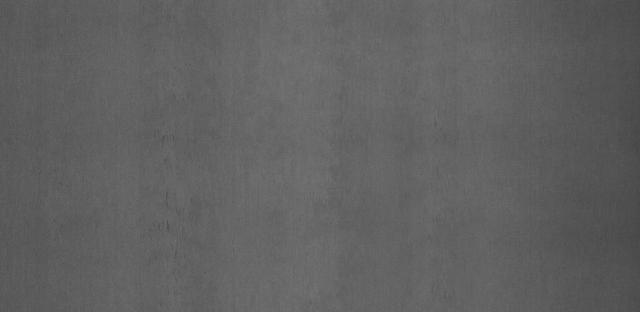silk_spot: (132, 87, 215, 261)
